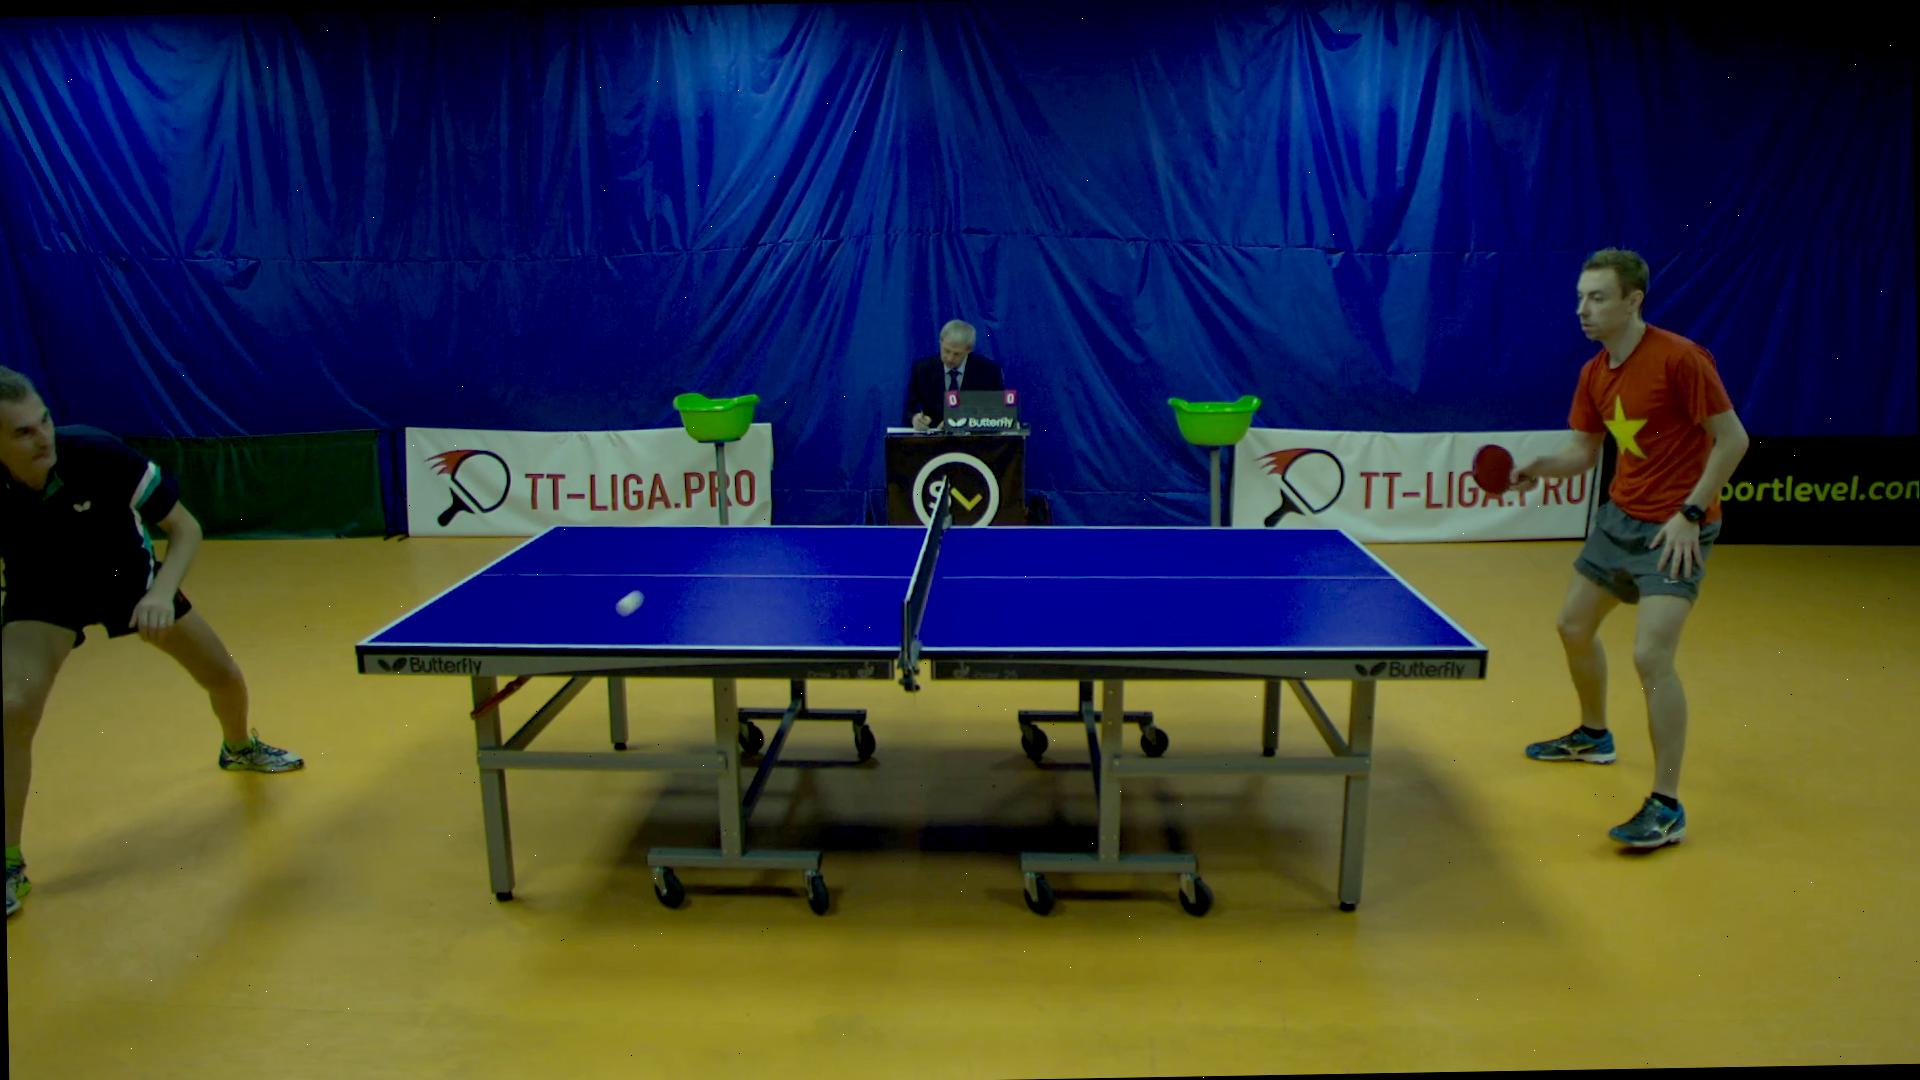ball: (612, 584, 647, 622)
